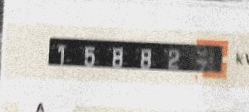1: (53, 41, 68, 63)
2: (164, 46, 181, 71)
5: (81, 42, 96, 67)
7: (194, 54, 207, 71)
8: (137, 45, 152, 70), (109, 45, 123, 68)
screen: (38, 27, 236, 87)
